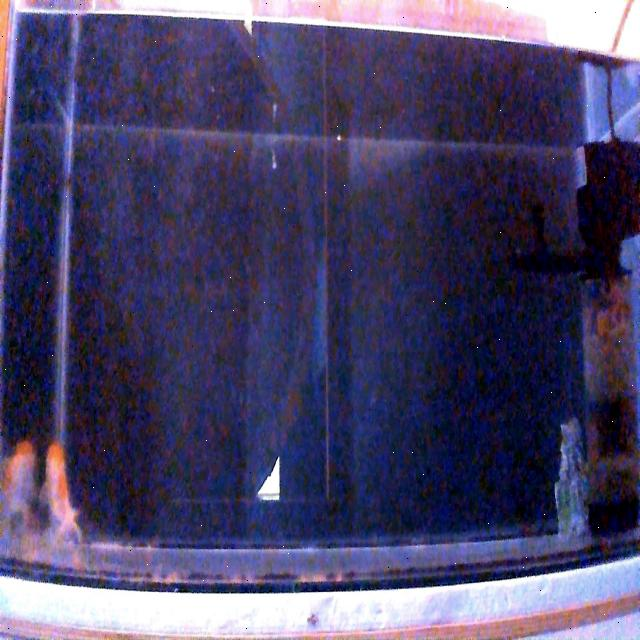fish: (2, 436, 39, 542), (44, 440, 80, 542)
